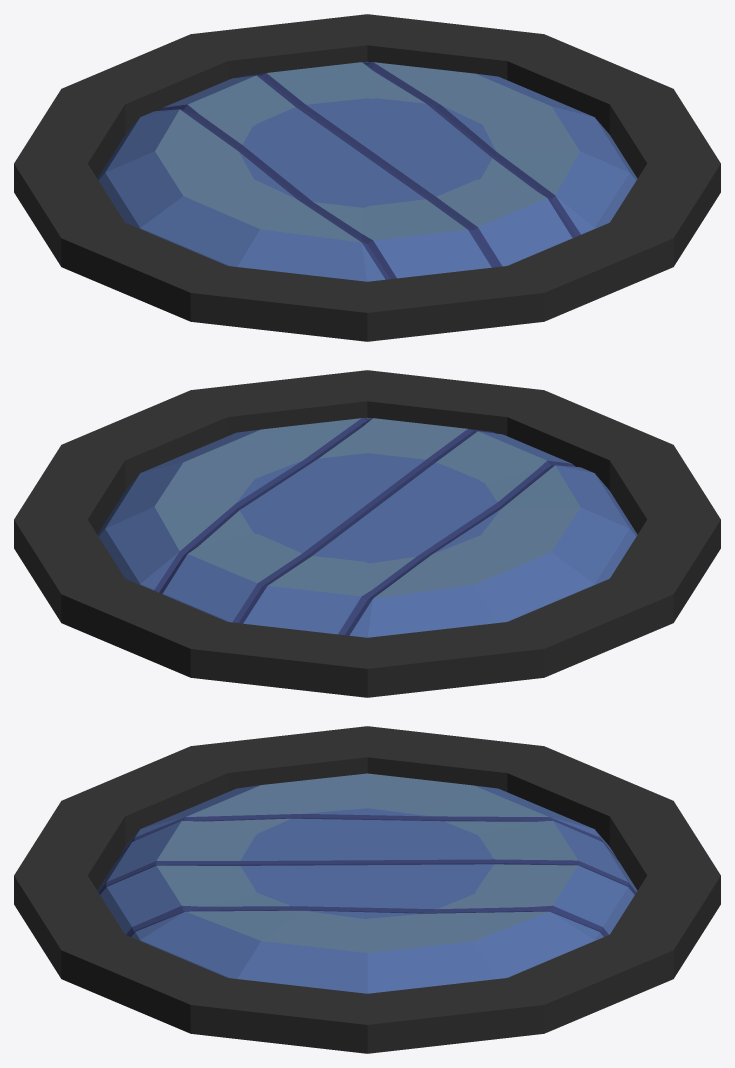
Rendered from F_Shield_A_Blue.fbx.
3 renders of one model, top to bottom at view 1: azimuth 30°, elevation 25°; view 2: azimuth 150°, elevation 25°; view 3: azimuth 270°, elevation 25°, orthographic.
Visible parts, largest first — view 1: F_Shield_A_Blue; view 2: F_Shield_A_Blue; view 3: F_Shield_A_Blue.
Part boxes in pixels (bbox=[...]): F_Shield_A_Blue: bbox=[14, 14, 720, 341]; F_Shield_A_Blue: bbox=[14, 370, 720, 697]; F_Shield_A_Blue: bbox=[14, 726, 720, 1053].
Bounding box in the file's own units: 75.7 × 7.63 × 75.7.
